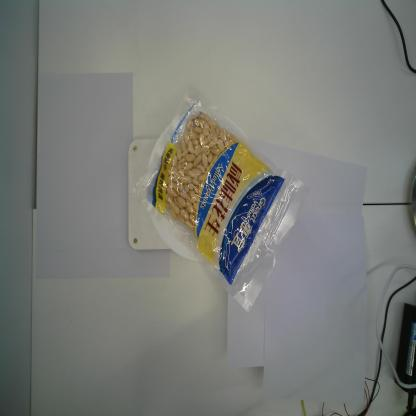Dried Fruit: (131, 84, 307, 312)
